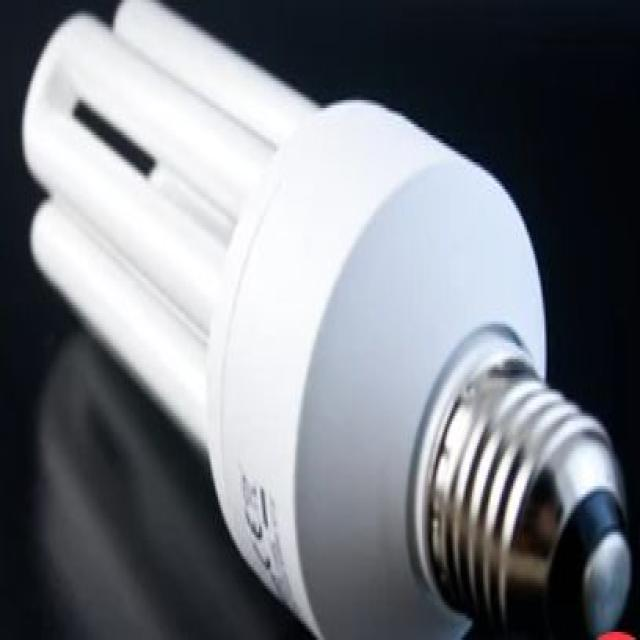electronic: (20, 0, 635, 637), (404, 319, 634, 637)
